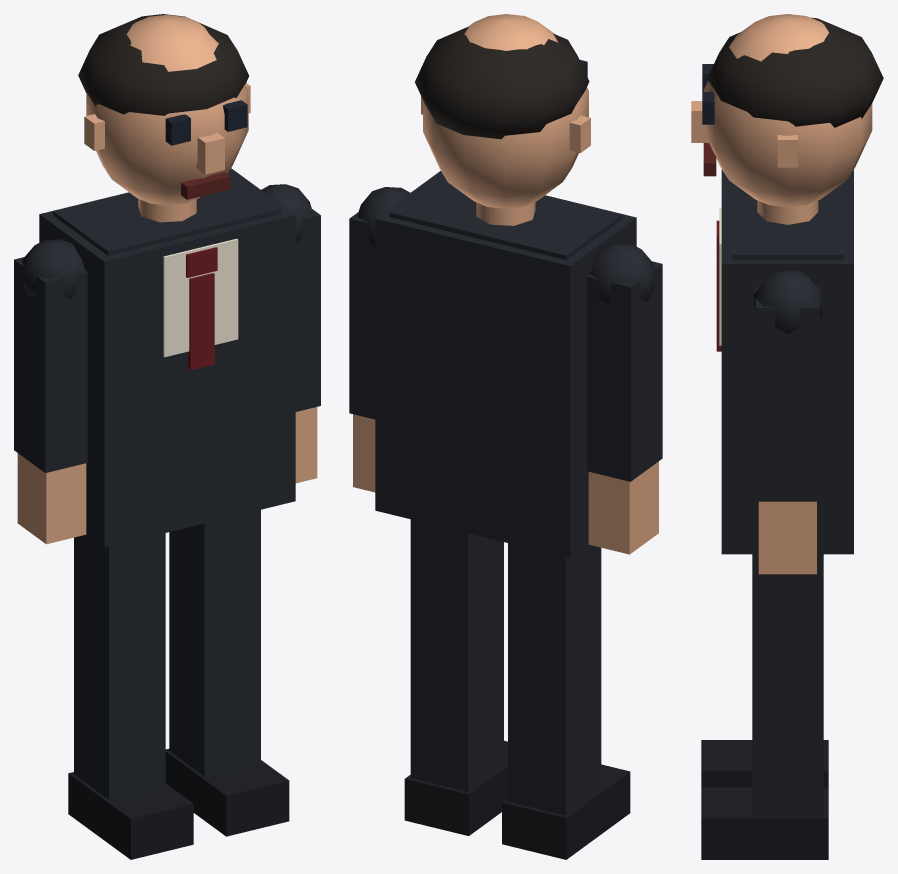
File: tolga_nofez.glb
The picture shows the model from 3 angles, left to right: view 1: azimuth 30°, elevation 25°; view 2: azimuth 150°, elevation 25°; view 3: azimuth 270°, elevation 25°; orthographic projection. The views are drawn at different scales.
Visible parts, largest first — view 1: Body, LegR, LegL, Head, ArmR, ArmL, Mouth; view 2: Body, LegR, LegL, Head, ArmR, ArmL; view 3: Body, Head, LegL, ArmL, LegR, Mouth.
Part boxes in pixels (x1=…): Body: x1=39, y1=168, x2=295, y2=547; LegR: x1=68, y1=533, x2=193, y2=859; LegL: x1=165, y1=510, x2=289, y2=836; Head: x1=78, y1=14, x2=250, y2=205; ArmR: x1=14, y1=239, x2=87, y2=544; ArmL: x1=261, y1=184, x2=320, y2=483; Mouth: x1=181, y1=172, x2=230, y2=199; Body: x1=375, y1=171, x2=636, y2=557; LegR: x1=502, y1=543, x2=630, y2=859; LegL: x1=404, y1=519, x2=507, y2=835; Head: x1=415, y1=14, x2=590, y2=208; ArmR: x1=587, y1=243, x2=662, y2=554; ArmL: x1=349, y1=187, x2=410, y2=492; Body: x1=716, y1=169, x2=853, y2=554; Head: x1=691, y1=14, x2=883, y2=207; LegL: x1=701, y1=554, x2=828, y2=859; ArmL: x1=753, y1=269, x2=822, y2=574; LegR: x1=701, y1=740, x2=828, y2=787; Mouth: x1=703, y1=143, x2=716, y2=176.
Bounding box in the file's own units: 0.6556 × 1.74 × 0.3784.
